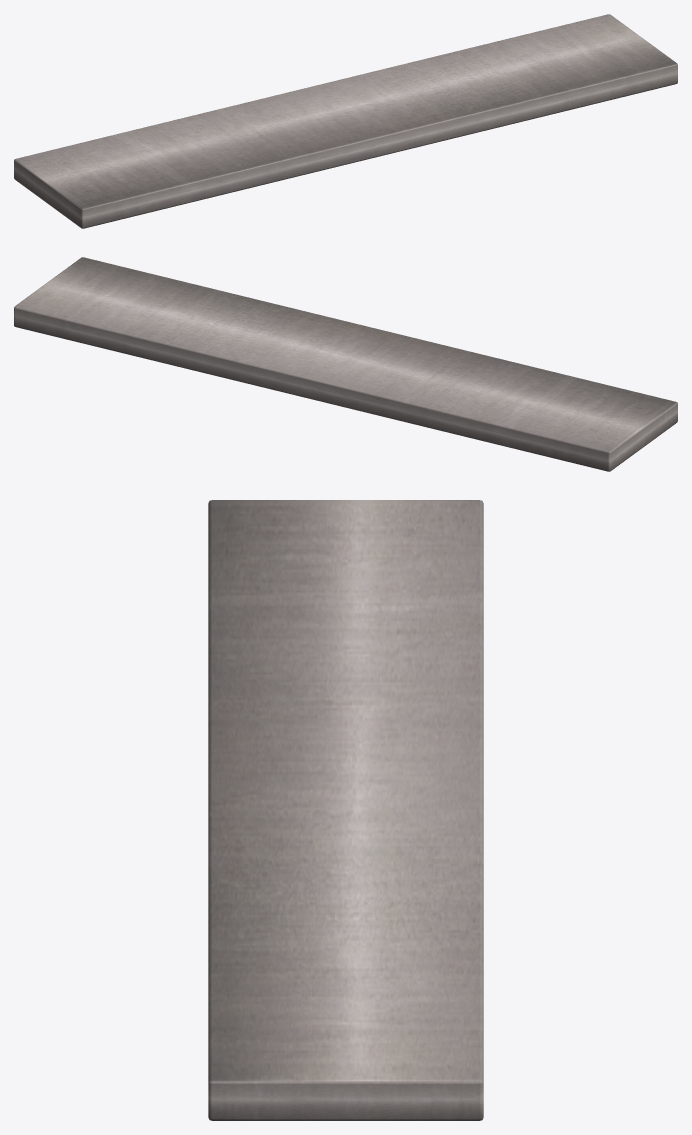
The model's file is SM_FacilityRooms_Threshold120.fbx.
3 views of the same model, one above another, from view 1: azimuth 30°, elevation 25°; view 2: azimuth 150°, elevation 25°; view 3: azimuth 270°, elevation 25° (orthographic). The views are drawn at different scales.
Parts seen in each view (by area): view 1: SM_FacilityRooms_Threshold120; view 2: SM_FacilityRooms_Threshold120; view 3: SM_FacilityRooms_Threshold120.
Boxes of the visible parts, x1,y1,x2,y2 form: SM_FacilityRooms_Threshold120: [14, 14, 677, 228]; SM_FacilityRooms_Threshold120: [14, 257, 677, 471]; SM_FacilityRooms_Threshold120: [208, 500, 483, 1120].
Size of what is drawn, in the model's own units: 120 by 24 by 4.
